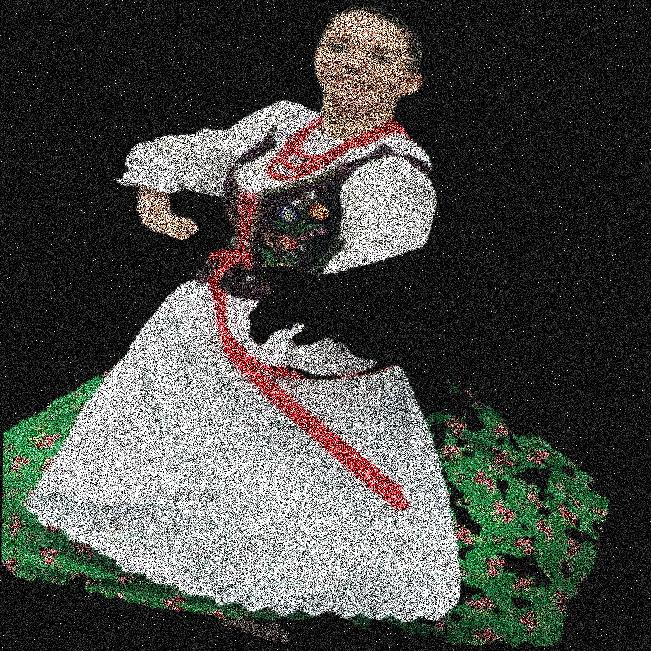Pessoa: (46, 0, 650, 650)
